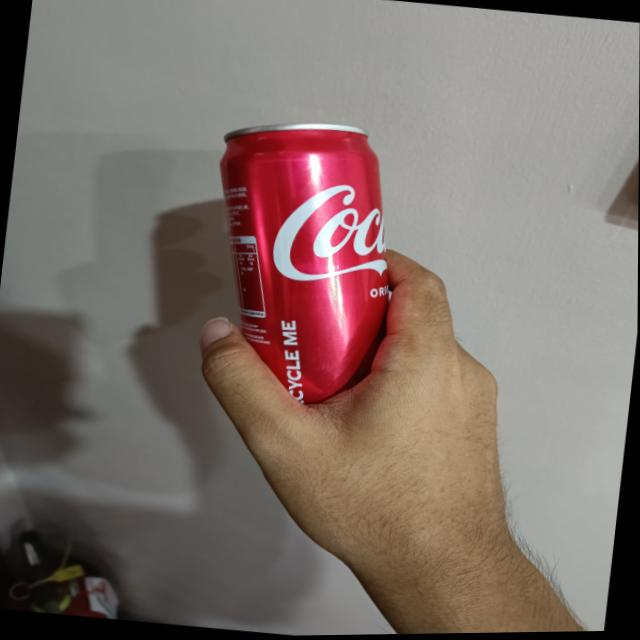coke: (194, 114, 411, 427)
